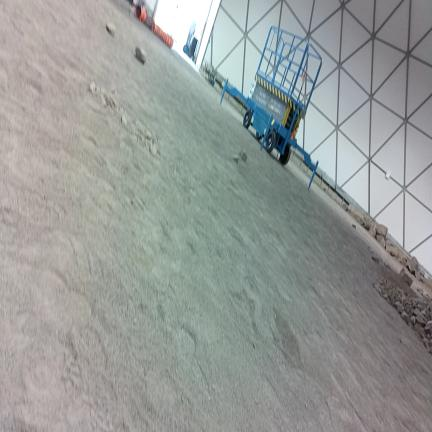Rock: (136, 46, 146, 64), (106, 22, 116, 37), (401, 311, 410, 323), (89, 82, 97, 94), (239, 150, 247, 162), (150, 142, 157, 155), (416, 314, 425, 324), (404, 302, 411, 313), (397, 304, 404, 314), (425, 320, 432, 330), (121, 114, 127, 125), (423, 337, 428, 348), (420, 308, 426, 317), (410, 315, 415, 325), (233, 155, 239, 163), (414, 308, 420, 316)
